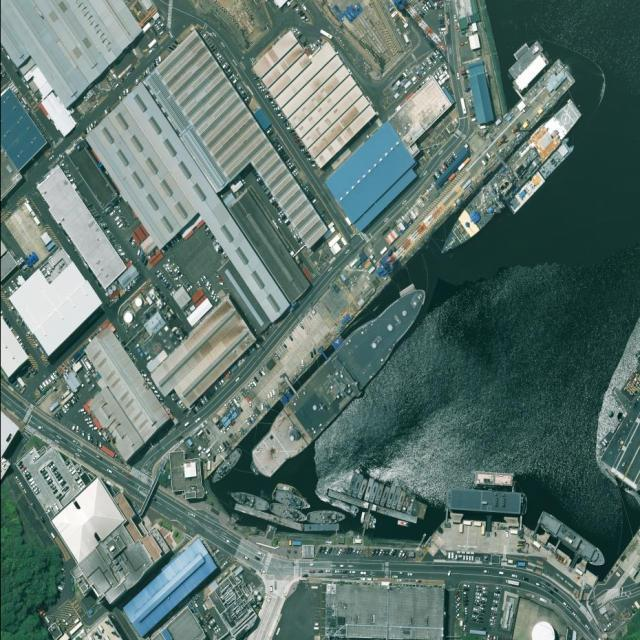Commander: (237, 276, 438, 485)
Destroyer: (429, 96, 588, 260)
Other Warship: (534, 509, 610, 571), (230, 487, 273, 513), (267, 500, 310, 525), (270, 489, 312, 511), (306, 509, 347, 523)
